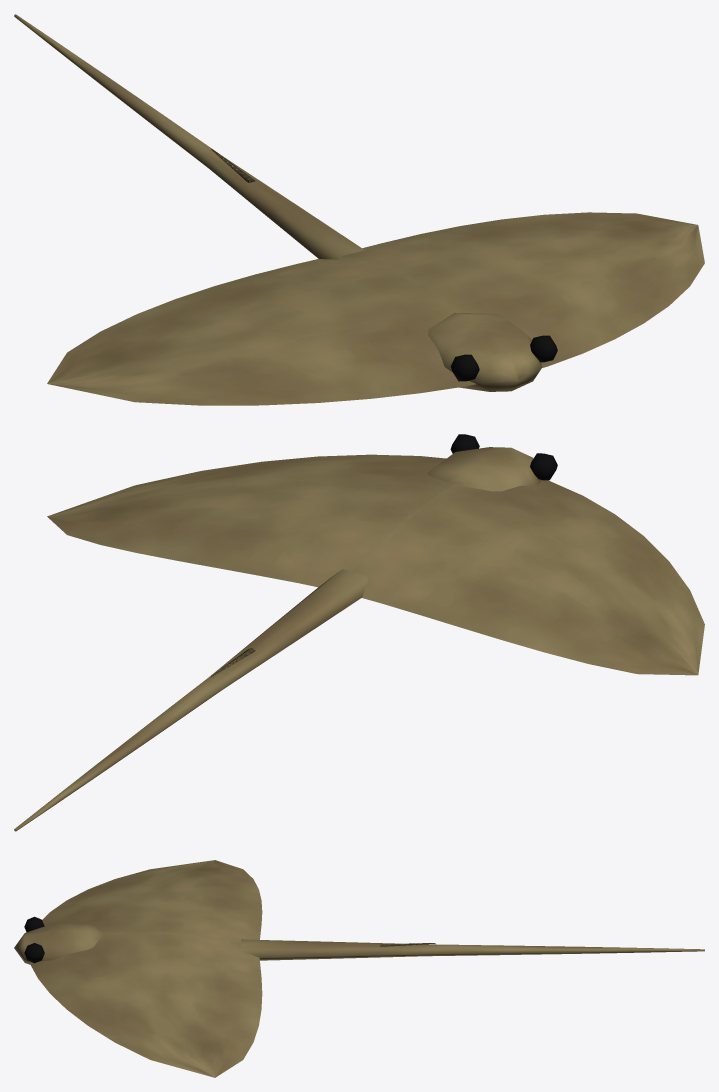
The model's file is stingray.glb.
3 renders of one model, top to bottom at view 1: azimuth 30°, elevation 25°; view 2: azimuth 150°, elevation 25°; view 3: azimuth 270°, elevation 25°, orthographic. The views are drawn at different scales.
Size of the model in its own units: 1.3 by 0.108 by 1.74.
1 material, 1 textured.
